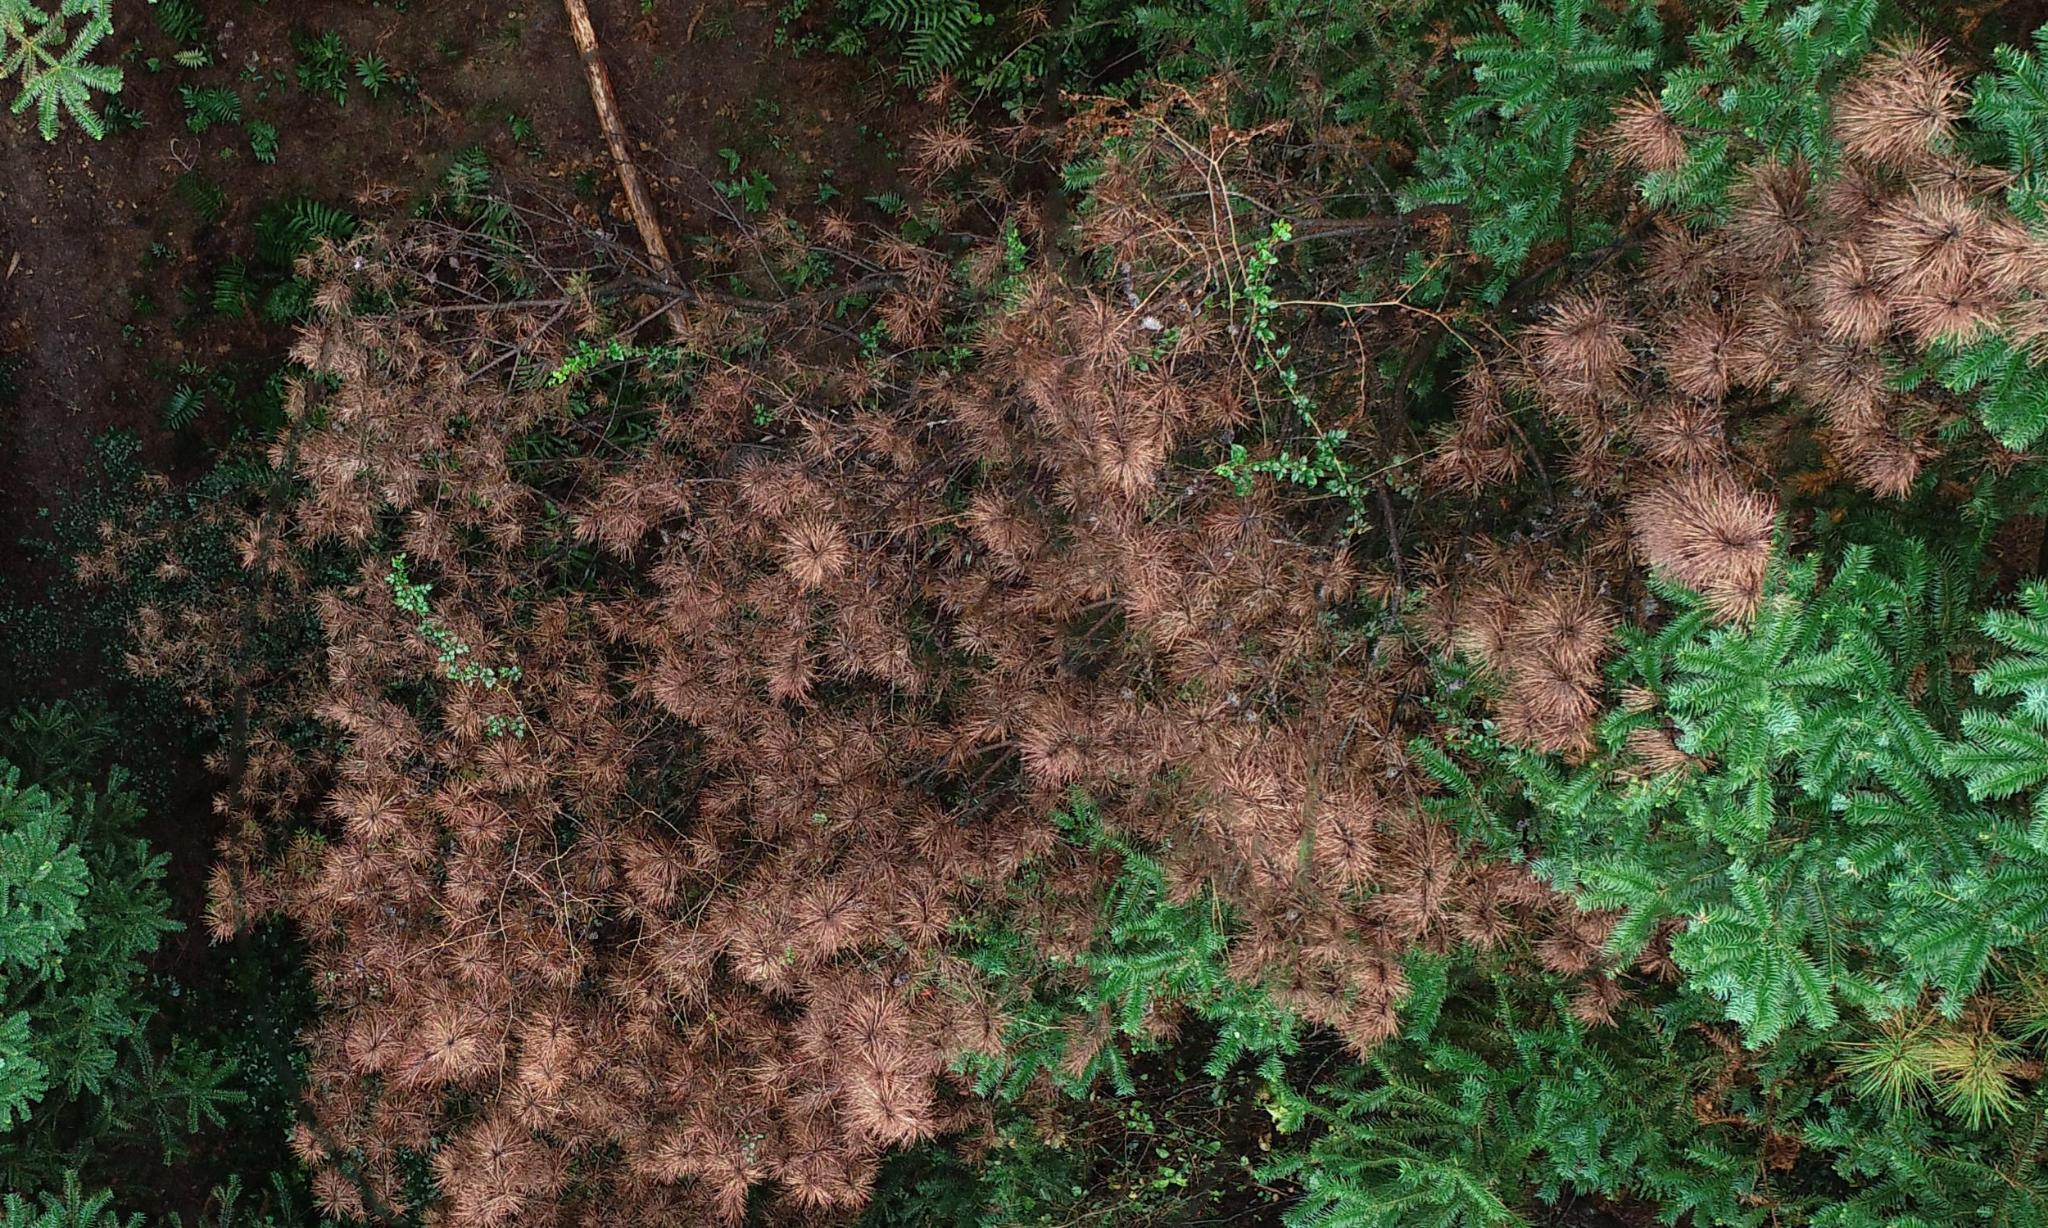heavy: (196, 190, 1418, 1212), (1529, 66, 2022, 599)
